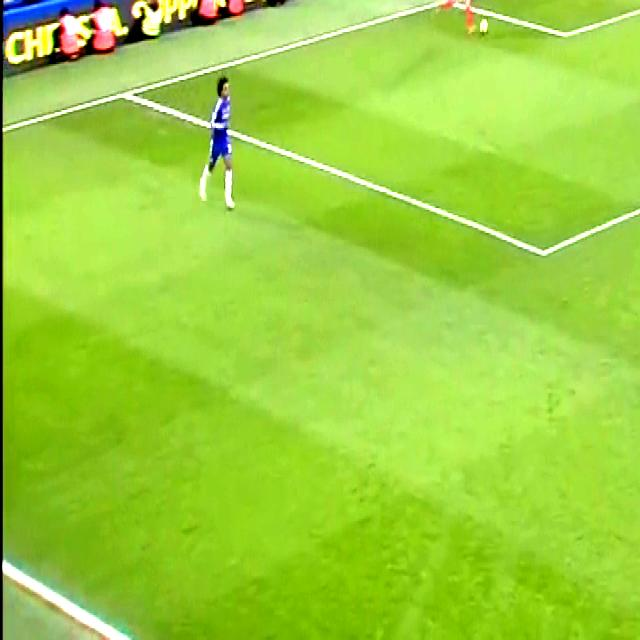ball: (472, 9, 496, 46)
goalkeeper: (441, 0, 483, 39)
soccer-player: (188, 70, 240, 219)
